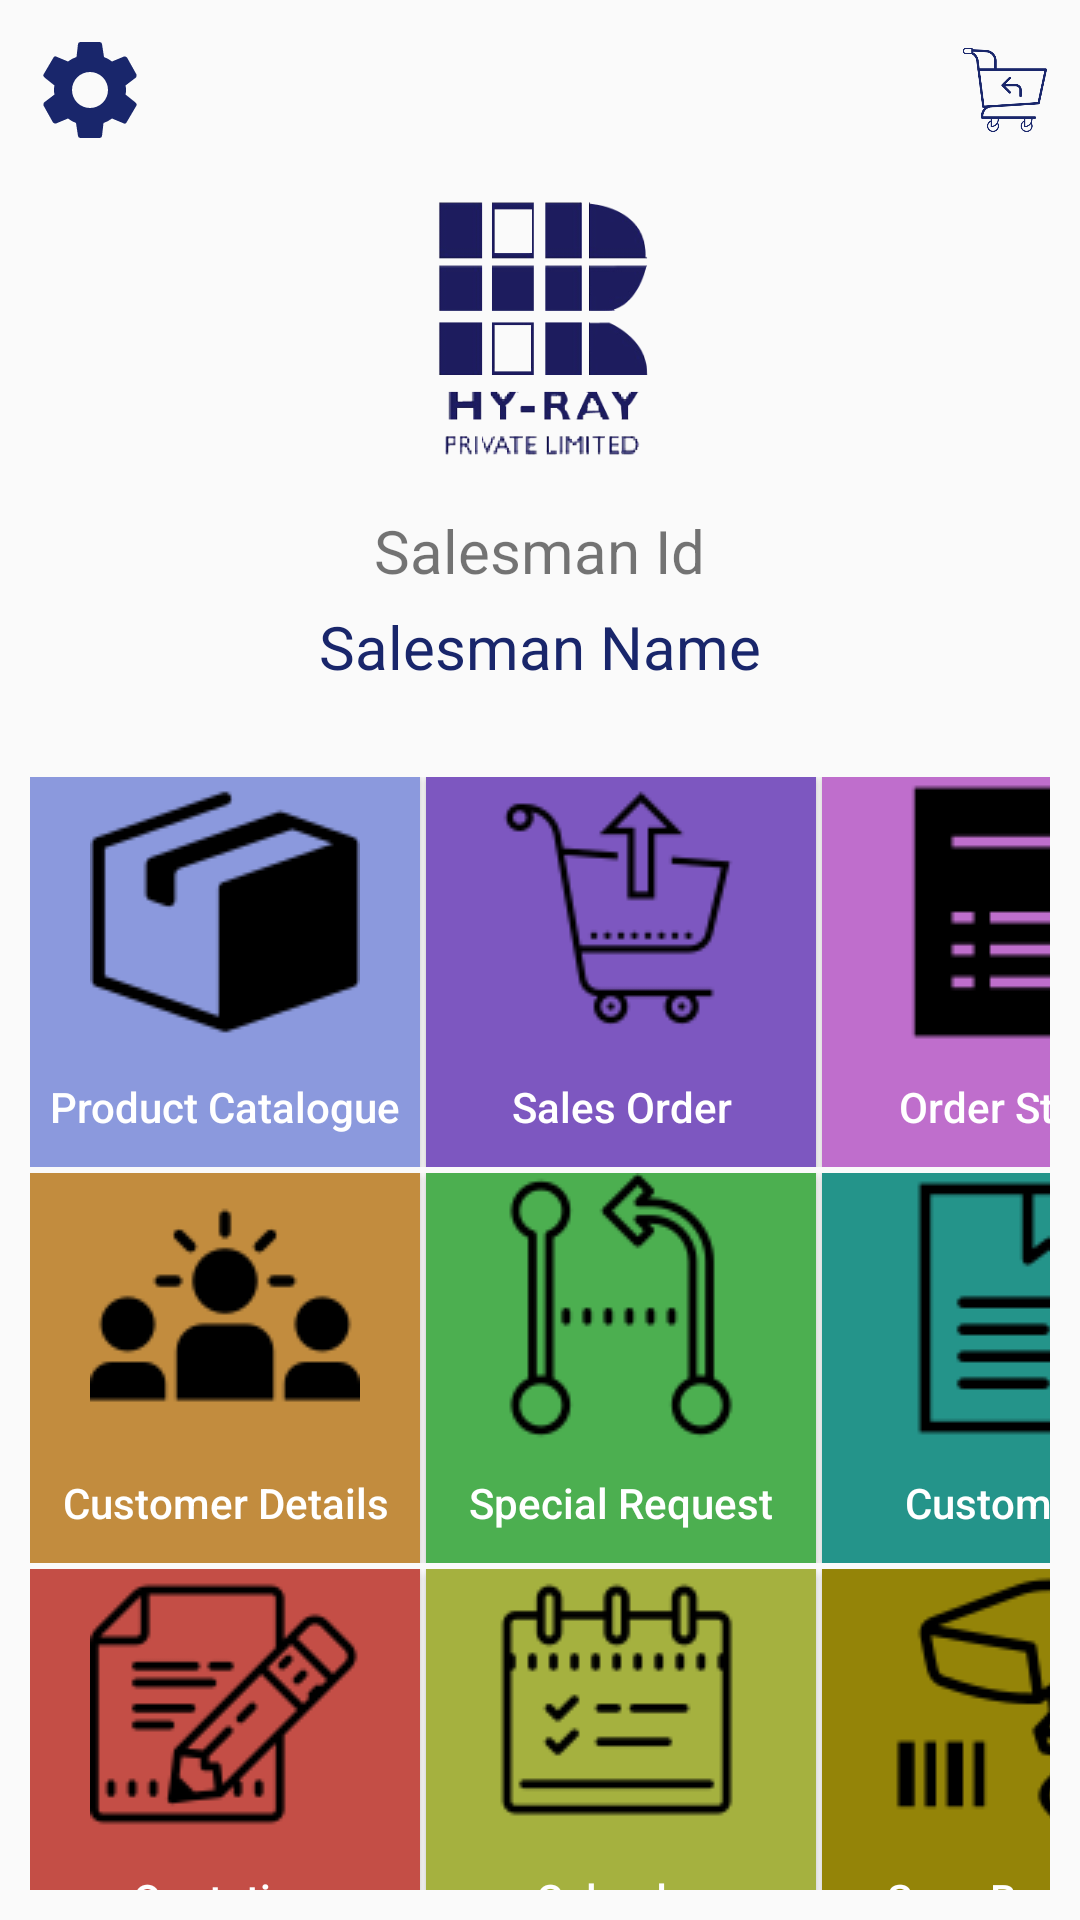

Screen size 1080 × 1920. Icon name, then its center in pixels as (x=x, y=y):
setting: (x=90, y=90)
